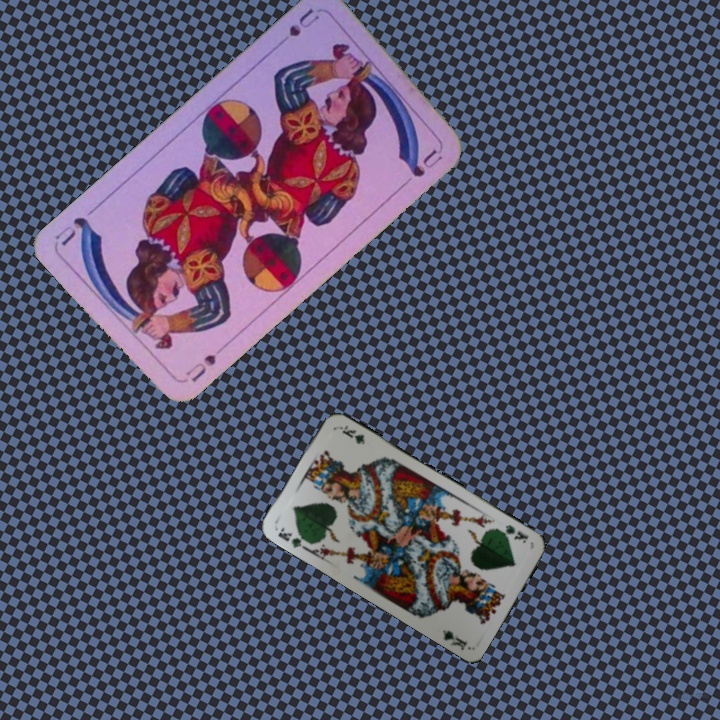GK: (274, 523, 312, 552), (494, 521, 531, 546)
SU: (285, 4, 322, 40), (182, 350, 219, 385)
